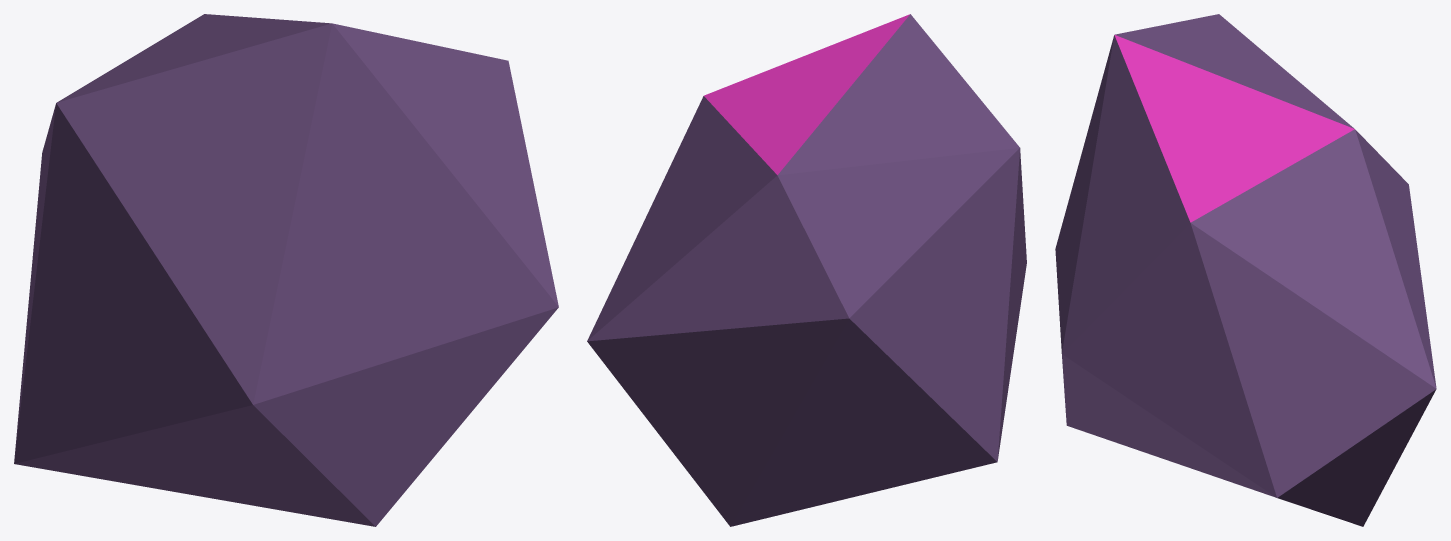
The model's file is meteor.glb.
3 renders of one model, left to right at view 1: azimuth 30°, elevation 25°; view 2: azimuth 150°, elevation 25°; view 3: azimuth 270°, elevation 25°, orthographic. The views are drawn at different scales.
Parts seen in each view (by area): view 1: meteor; view 2: meteor; view 3: meteor.
Part boxes in pixels (left/top/right/bottom): meteor: left=14, top=14, right=558, bottom=526; meteor: left=587, top=14, right=1026, bottom=526; meteor: left=1055, top=14, right=1436, bottom=526.
Size of the model in its own units: 0.5519 by 0.6009 by 0.4503.
